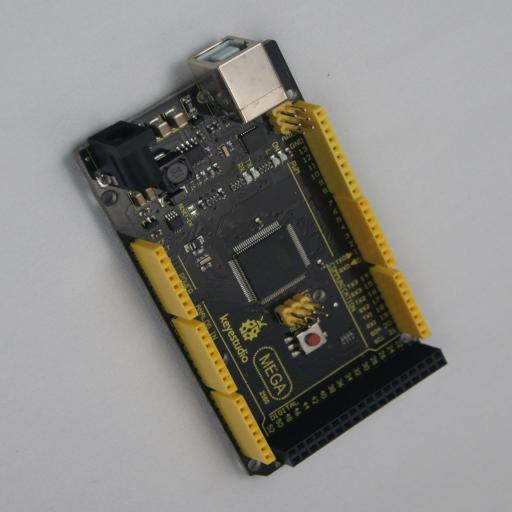Arduino Mega 2560 -Black and Yellow-: (67, 38, 447, 476)
